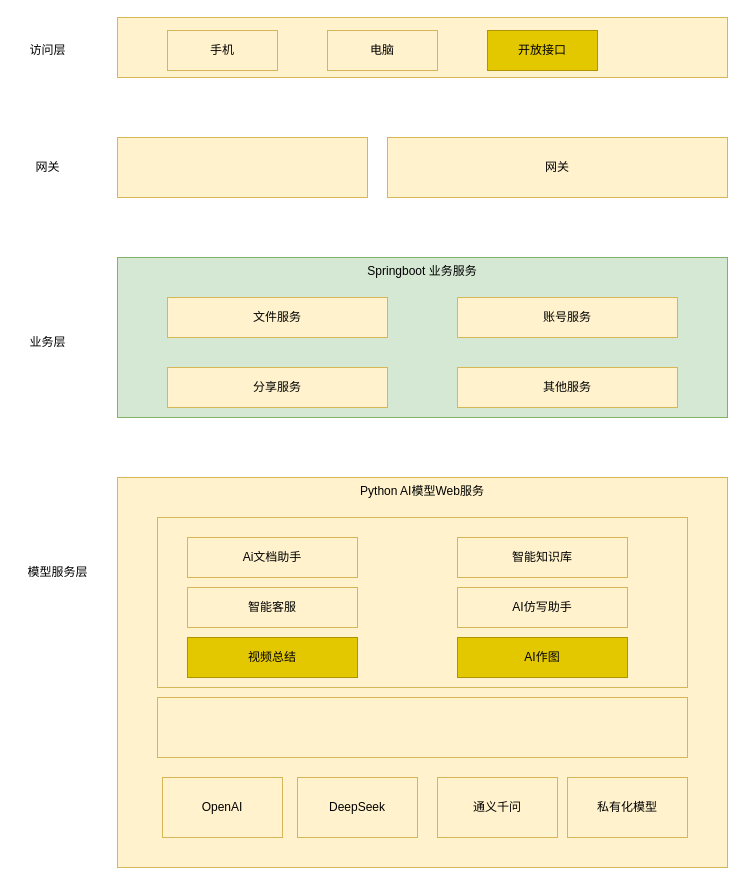
This 745x885 diagram has some shape labels left out. Here are the shapes that lost their labels. From the top down, the centre of each, then its label:
At point (242, 167): "流量清洗防护".
At point (422, 727): "接口协议（类OpenAI协议）".
